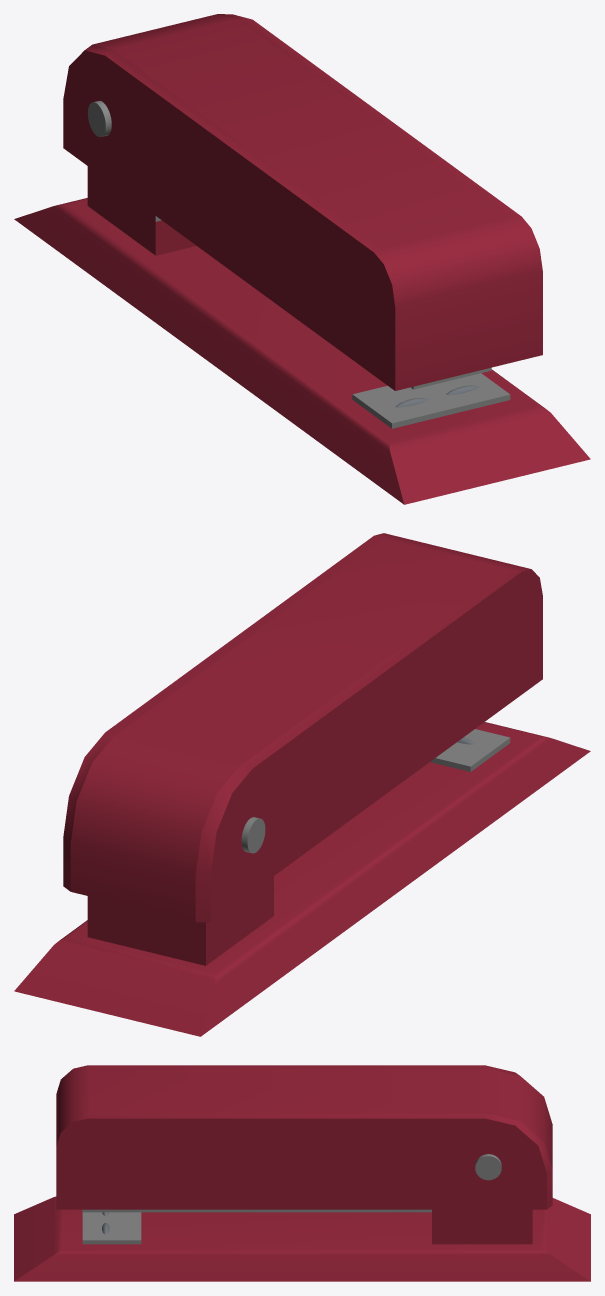
File: Stapler.fbx
The picture shows the model from 3 angles, top to bottom: view 1: azimuth 30°, elevation 25°; view 2: azimuth 150°, elevation 25°; view 3: azimuth 270°, elevation 25°; orthographic projection. The views are drawn at different scales.
Visible parts, largest first — view 1: Stapler; view 2: Stapler; view 3: Stapler.
Part boxes in pixels (left/top/right/bottom): Stapler: left=14, top=14, right=590, bottom=504; Stapler: left=14, top=533, right=590, bottom=1036; Stapler: left=14, top=1065, right=590, bottom=1281.
Size of the model in its own units: 315 by 342 by 1143.
